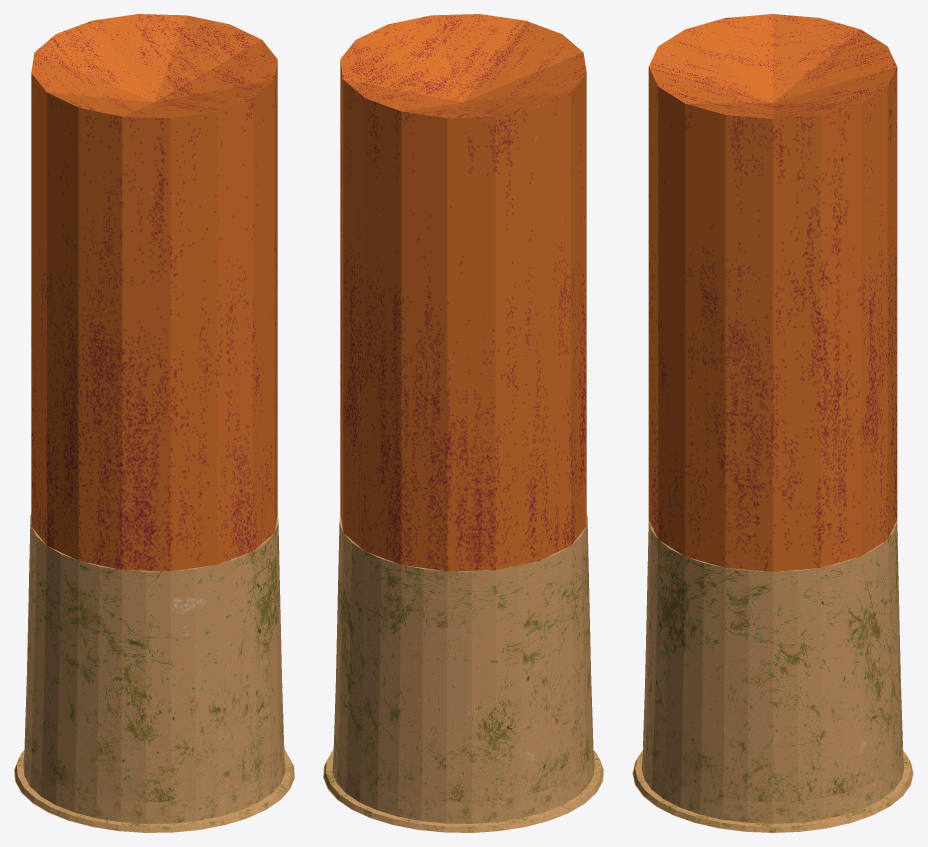
Rendered from spent shell.glb.
3 renders of one model, left to right at view 1: azimuth 30°, elevation 25°; view 2: azimuth 150°, elevation 25°; view 3: azimuth 270°, elevation 25°, orthographic.
Visible parts, largest first — view 1: shell; view 2: shell; view 3: shell.
Boxes of the visible parts, left/top/right/bottom form: shell: left=14, top=14, right=294, bottom=832; shell: left=323, top=14, right=603, bottom=832; shell: left=632, top=14, right=913, bottom=832.
Bounding box in the file's own units: 0.0283 × 0.0785 × 0.0283.
3 materials, 3 textured.
